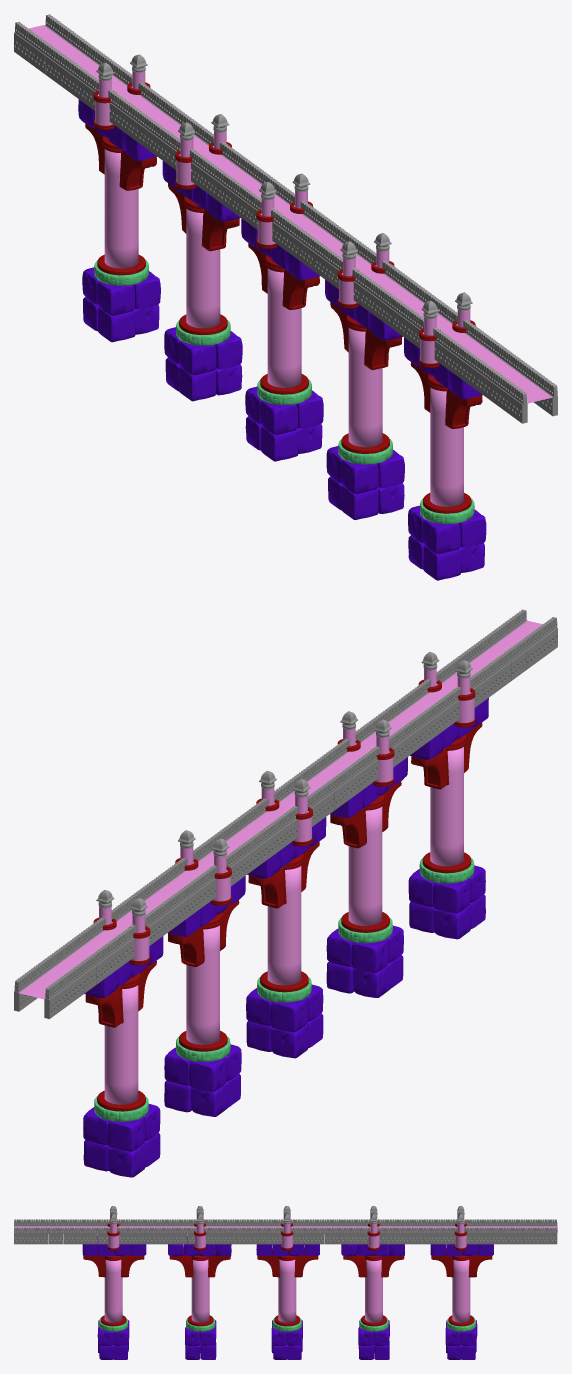
The model's file is great_bridge.fbx.
The picture shows the model from 3 angles, top to bottom: view 1: azimuth 30°, elevation 25°; view 2: azimuth 150°, elevation 25°; view 3: azimuth 270°, elevation 25°; orthographic projection. The views are drawn at different scales.
Visible parts, largest first — view 1: great_bridge; view 2: great_bridge; view 3: great_bridge.
Boxes of the visible parts, bbox=[...] form: great_bridge: bbox=[14, 14, 557, 580]; great_bridge: bbox=[14, 609, 557, 1177]; great_bridge: bbox=[14, 1206, 557, 1359].
Size of the model in its own units: 2.86 by 13.69 by 47.16.
